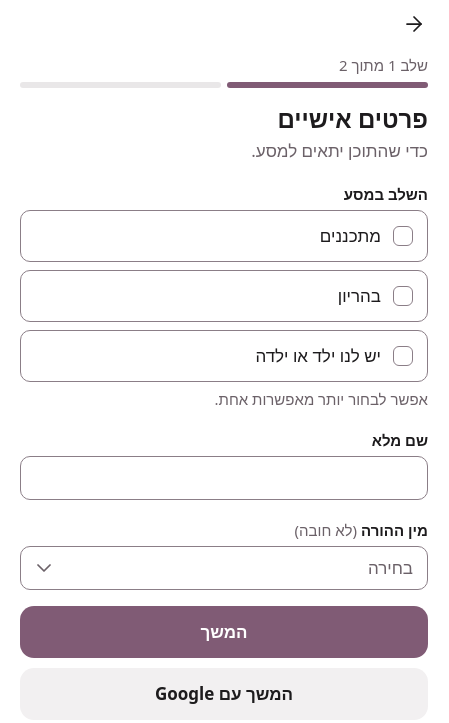
Scenario: F1.3 criterion 7 (no-children half) [AC-089 · FR-REG-002 · FR-REG-003] fields open only when ticked › [AC-089][FR-REG-002] nothing ticked: no due-date field; pregnant opens three optional fields; planning opens nothing; unticking removes them and ticking again r
Expected: the heading reads "פרטים אישיים", [278,102,428,135]
Expected: the element "תאריך לידה משוער" is not shown
Click the checkbox labelled "מתכננים".
click(350, 236)  # box [20,210,428,262]
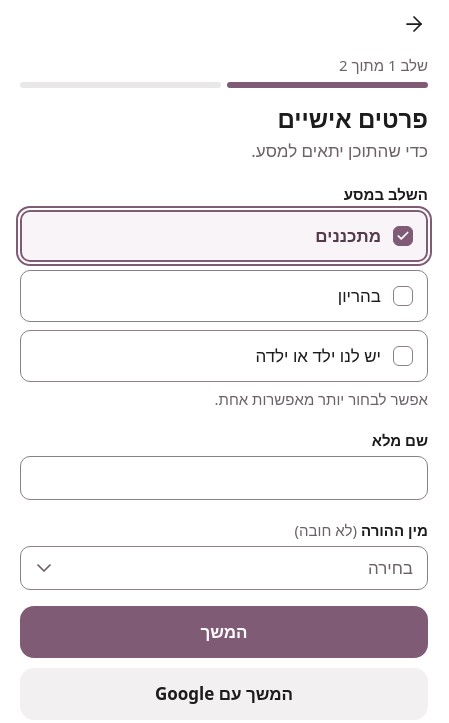
Expected: the field labelled "יום" is not shown
Click the checkbox labelled "בהריון".
click(359, 296)  # box [20,270,428,322]
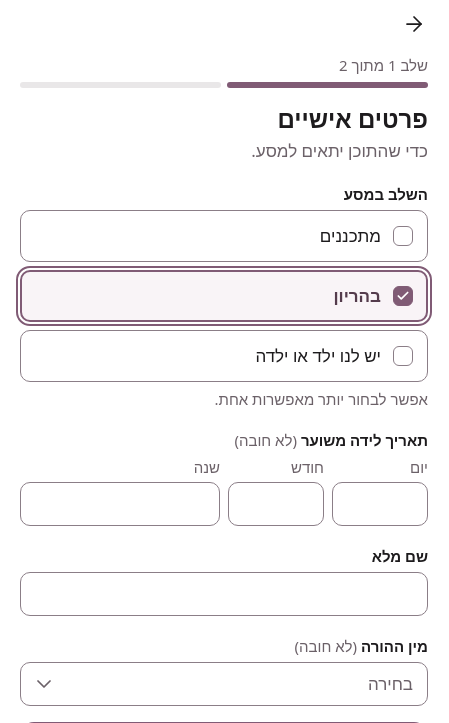
Now the element "תאריך לידה משוער (לא חובה) יום חודש שנה" is shown, box [20,430,428,526]
Now the field labelled "יום" is shown
Now the field labelled "חודש" is shown, box [228,482,324,526]
Type "1" into the field labelled "יום".
click(380, 504); type("1")  # box [332,482,428,526]
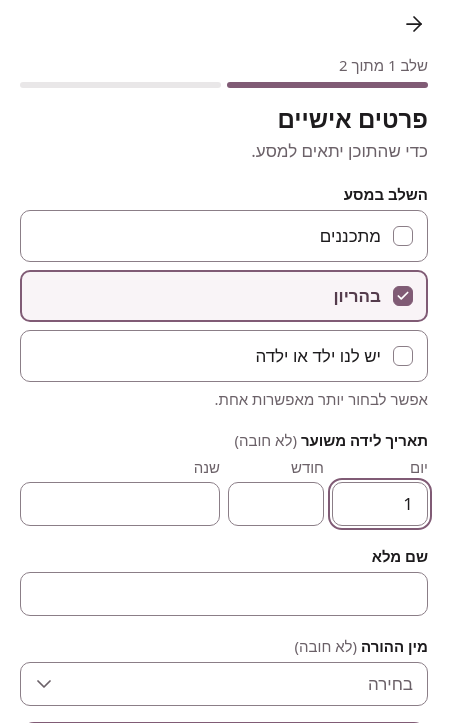
Type "12" into the field labelled "חודש".
click(276, 504); type("12")  # box [228,482,324,526]
Type "2026" into the field labelled "שנה".
click(120, 504); type("2026")  # box [20,482,220,526]
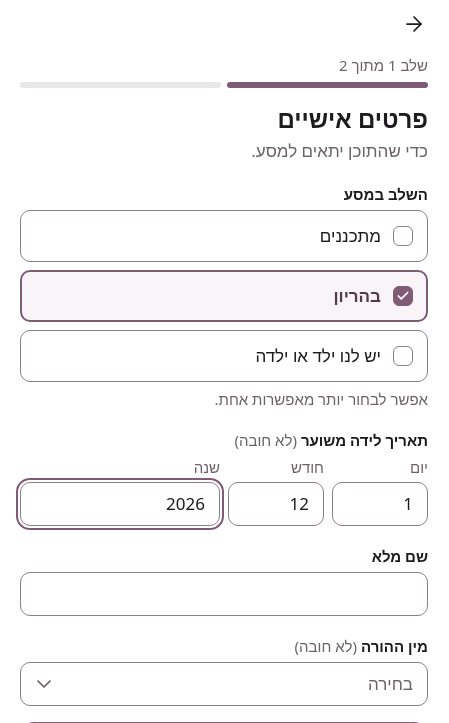
Click the checkbox labelled "בהריון".
click(357, 296)  # box [20,270,428,322]
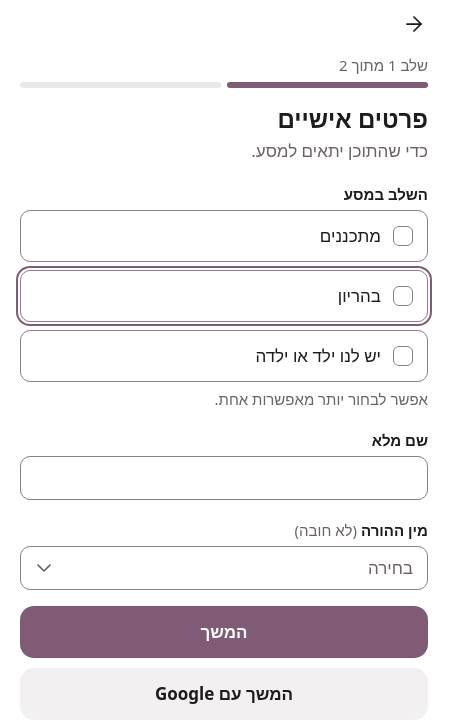
Now the label labelled "יום" is gone
Now the element "תאריך לידה משוער" is gone
Click the checkbox labelled "בהריון".
click(359, 296)  # box [20,270,428,322]
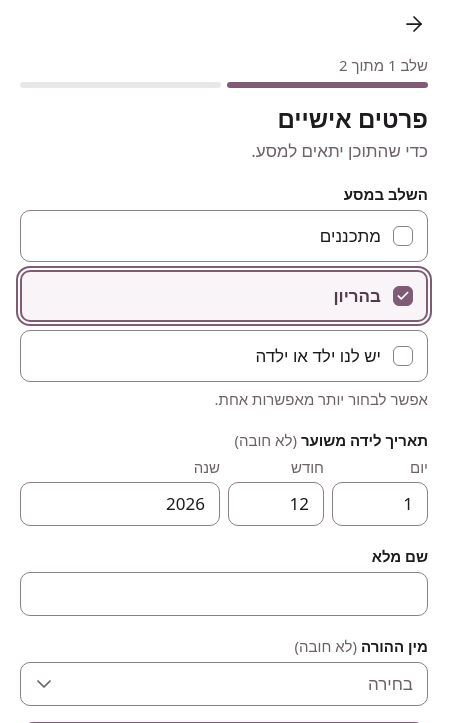
Now the field labelled "יום" holds "1", box [332,482,428,526]
Now the field labelled "חודש" holds "12", box [228,482,324,526]
Now the field labelled "שנה" holds "2026", box [20,482,220,526]
